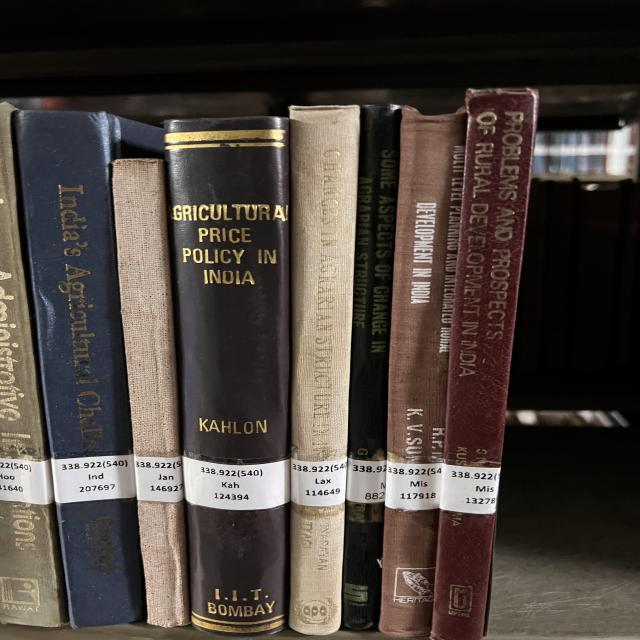Book: (13, 110, 163, 628), (165, 118, 290, 636), (432, 89, 538, 640), (378, 108, 467, 638), (288, 105, 360, 635), (113, 159, 188, 628), (342, 105, 402, 630)
Label: (183, 456, 290, 510), (52, 455, 137, 504), (290, 458, 347, 506), (133, 456, 183, 502), (347, 459, 387, 504)
